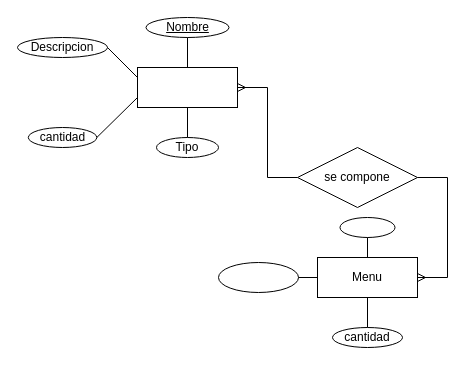
Some shapes in this 473 by 365 pixel diagram are drawn without their labels. Here are the shapes that lost their labels. From the top down, the centre of each, then its label:
At pixel 187 87: "Plato".
At pixel 367 227: "Fecha".
At pixel 258 277: "Temperatura".
